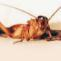cockroach: (7, 16, 51, 40)
